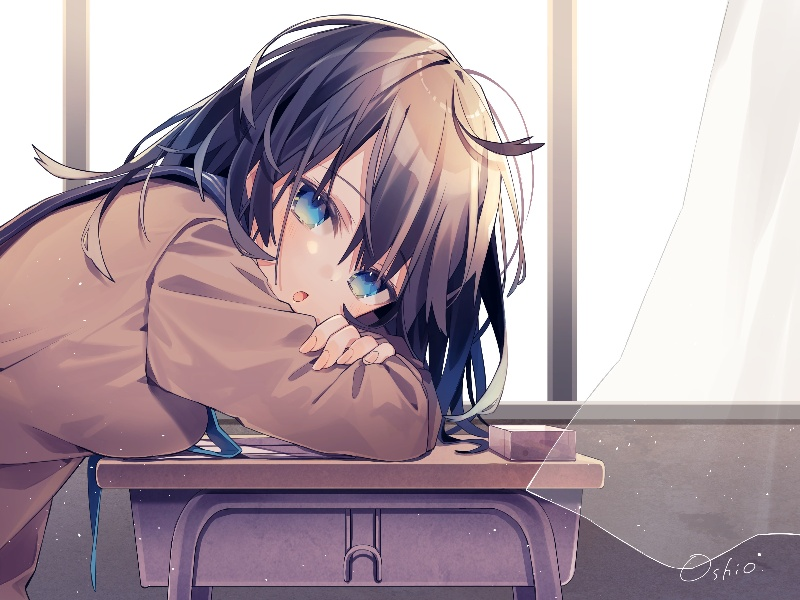person: (161, 27, 551, 396)
